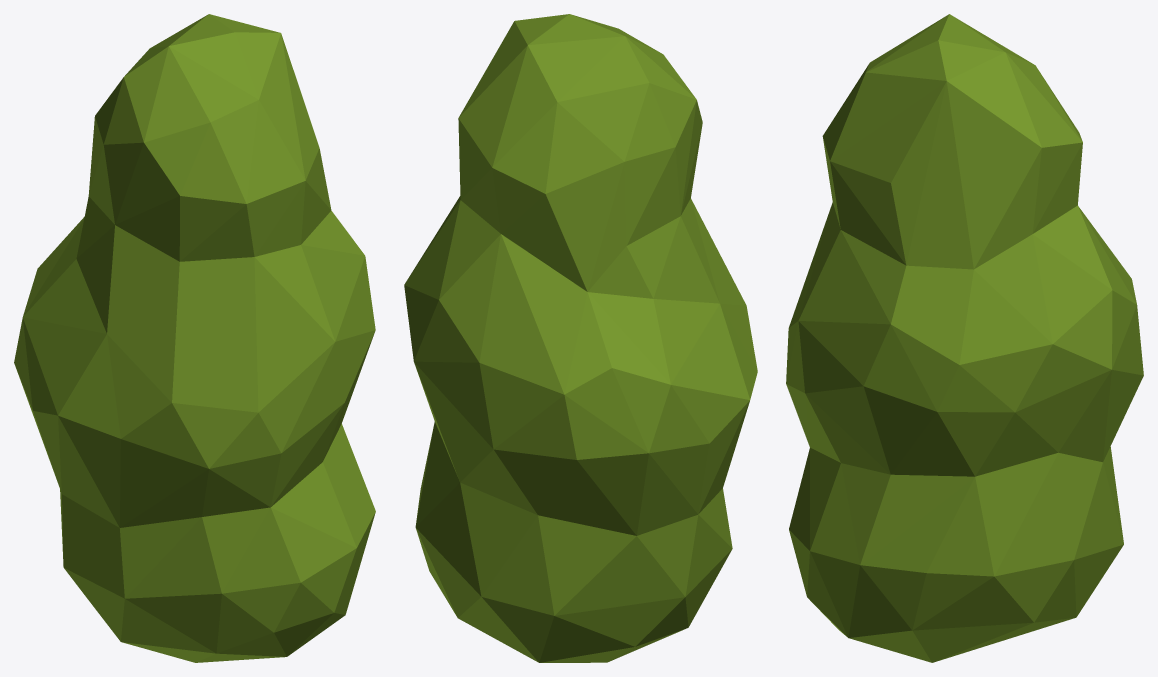
Rendered from SM_bush_01.fbx.
3 views of the same model, side by side, from view 1: azimuth 30°, elevation 25°; view 2: azimuth 150°, elevation 25°; view 3: azimuth 270°, elevation 25° (orthographic).
Parts seen in each view (by area): view 1: Object020; view 2: Object020; view 3: Object020.
Boxes of the visible parts, x1,y1,x2,y2 form: Object020: (14, 14, 375, 662); Object020: (404, 14, 757, 662); Object020: (786, 14, 1143, 662).
Bounding box in the file's own units: 60.58 × 115 × 60.97.
